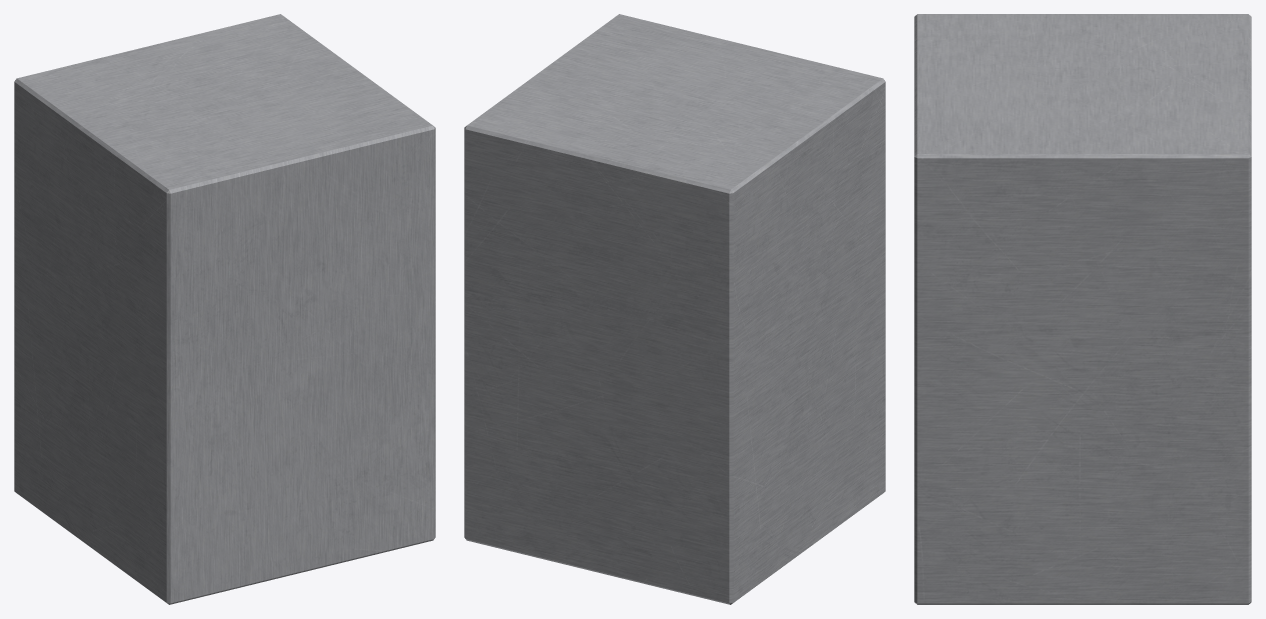
File: bedside_table.dae
3 views of the same model, side by side, from view 1: azimuth 30°, elevation 25°; view 2: azimuth 150°, elevation 25°; view 3: azimuth 270°, elevation 25° (orthographic). The views are drawn at different scales.
Parts seen in each view (by area): view 1: SM_Nachttisch; view 2: SM_Nachttisch; view 3: SM_Nachttisch.
Part boxes in pixels (x1,y1,x2,y2): SM_Nachttisch: [14, 14, 435, 604]; SM_Nachttisch: [464, 14, 885, 604]; SM_Nachttisch: [914, 14, 1251, 604].
Size of the model in its own units: 0.312 by 0.312 by 0.46.
1 material, 1 textured.
